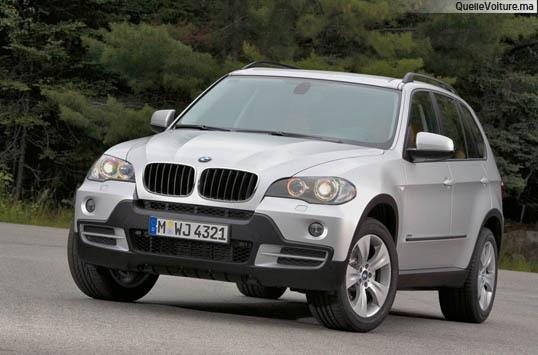car: (45, 42, 522, 340)
